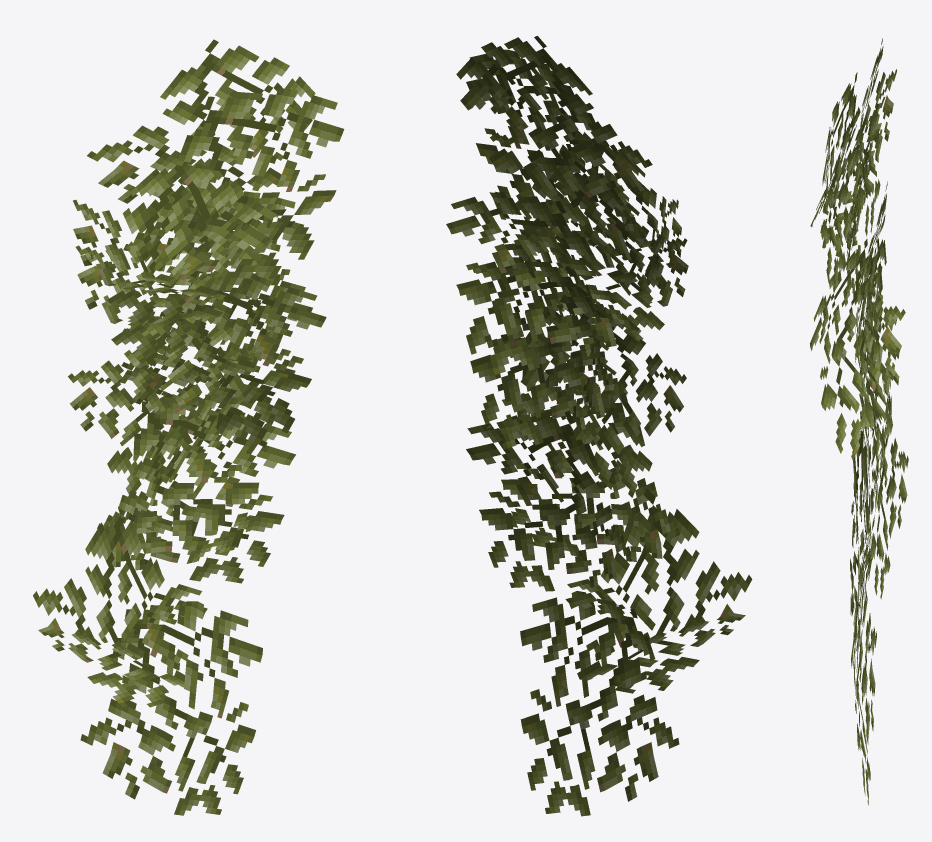
File: vine_hanging.glb
The picture shows the model from 3 angles, left to right: view 1: azimuth 30°, elevation 25°; view 2: azimuth 150°, elevation 25°; view 3: azimuth 270°, elevation 25°; orthographic projection.
Visible parts, largest first — view 1: vine_hanging; view 2: vine_hanging; view 3: vine_hanging.
Boxes of the visible parts, box(x1,y1,x2,y2) form: vine_hanging: box(33, 39, 344, 815); vine_hanging: box(446, 36, 752, 816); vine_hanging: box(810, 38, 908, 805).
Size of the model in its own units: 1.32 by 2.94 by 0.3928.
1 material, 1 textured.
